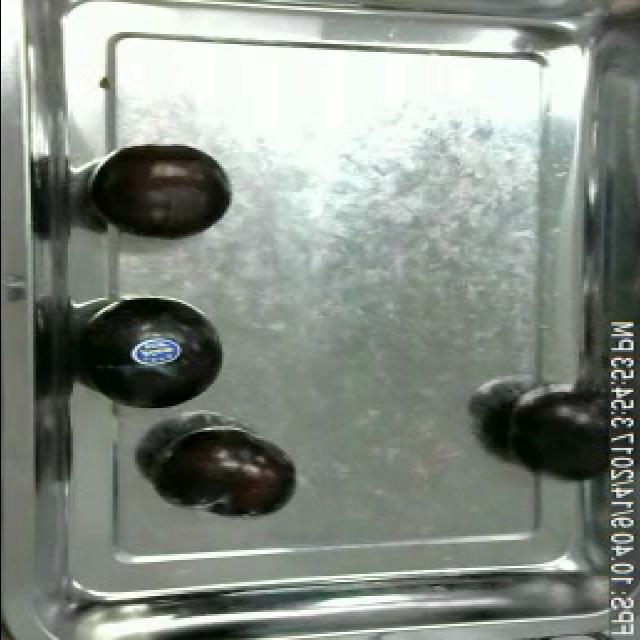Fruit: (77, 290, 233, 416), (156, 424, 302, 524), (92, 144, 234, 244)
